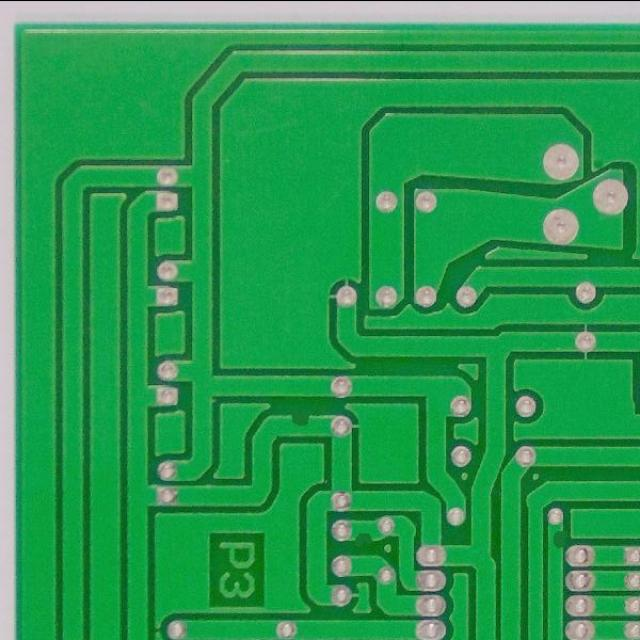MouseBite: (283, 408, 318, 430), (550, 527, 566, 555), (351, 529, 376, 545)
